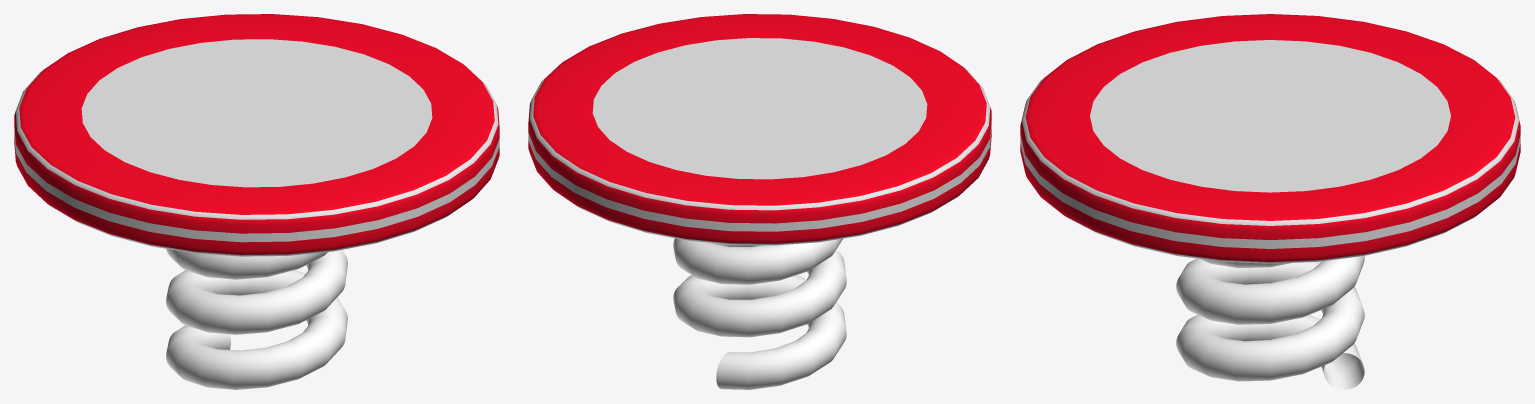
File: screw.fbx
3 renders of one model, left to right at view 1: azimuth 30°, elevation 25°; view 2: azimuth 150°, elevation 25°; view 3: azimuth 270°, elevation 25°, orthographic. The views are drawn at different scales.
Parts seen in each view (by area): view 1: Cylinder, Circle.001; view 2: Cylinder, Circle.001; view 3: Cylinder, Circle.001.
Part boxes in pixels (x1,y1,x2,y2): Cylinder: [14, 14, 499, 256]; Circle.001: [166, 249, 347, 389]; Cylinder: [528, 14, 991, 245]; Circle.001: [673, 238, 846, 389]; Cylinder: [1020, 14, 1520, 263]; Circle.001: [1176, 256, 1364, 389].
Size of the model in its own units: 200 by 121 by 200.
